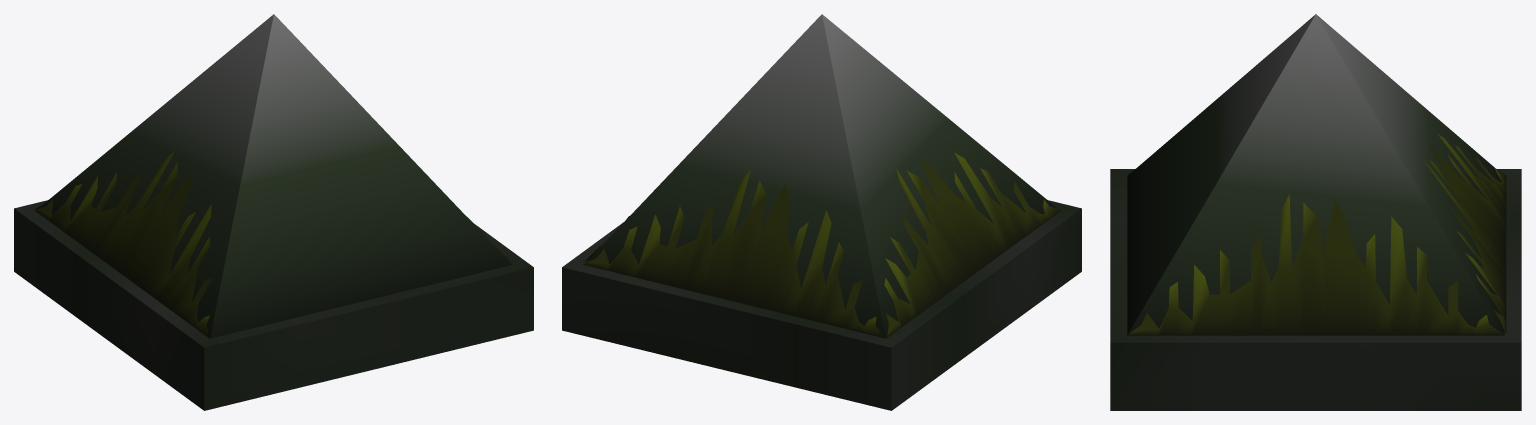
Rendered from lib-laby-pyramid-a.fbx.
The picture shows the model from 3 angles, left to right: view 1: azimuth 30°, elevation 25°; view 2: azimuth 150°, elevation 25°; view 3: azimuth 270°, elevation 25°; orthographic projection. The views are drawn at different scales.
Parts seen in each view (by area): view 1: lib_laby_pyramid_a:pCube7; view 2: lib_laby_pyramid_a:pCube7; view 3: lib_laby_pyramid_a:pCube7.
Boxes of the visible parts, bbox=[...] form: lib_laby_pyramid_a:pCube7: bbox=[14, 14, 533, 410]; lib_laby_pyramid_a:pCube7: bbox=[562, 14, 1081, 410]; lib_laby_pyramid_a:pCube7: bbox=[1110, 14, 1521, 410].
Bounding box in the file's own units: 8.83 × 7.35 × 8.83.
